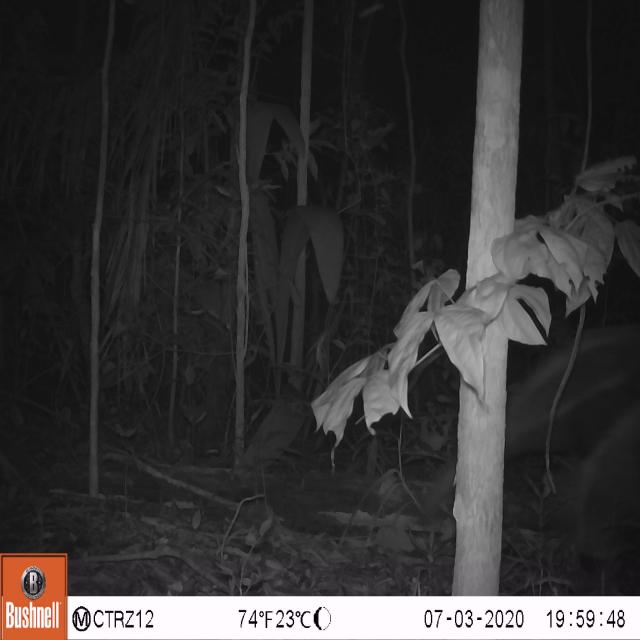Giant Anteater: (403, 308, 640, 570)
